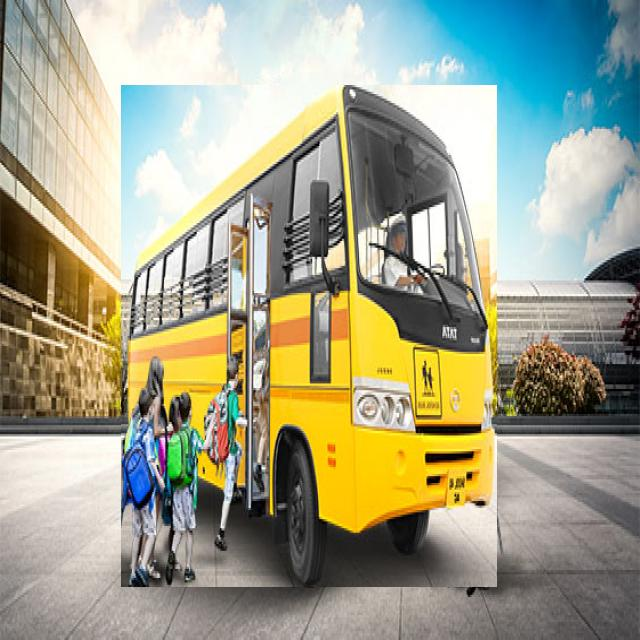bus: (121, 86, 497, 587)
